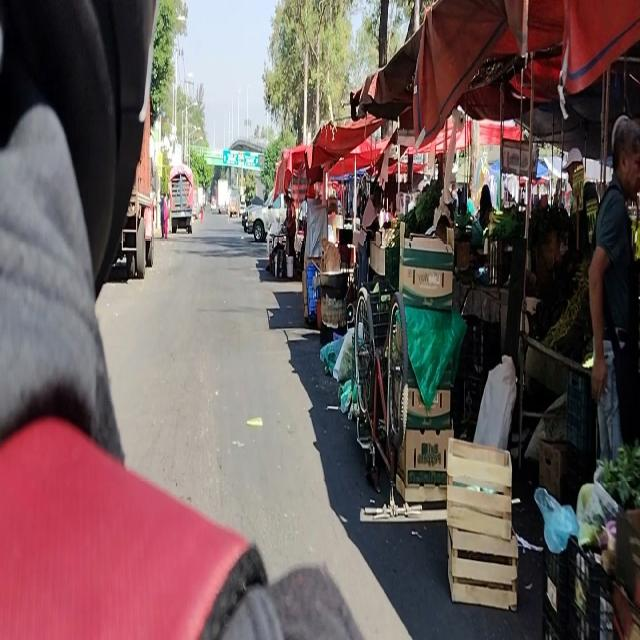adult: (590, 113, 640, 472), (357, 186, 380, 290), (285, 193, 295, 256)
